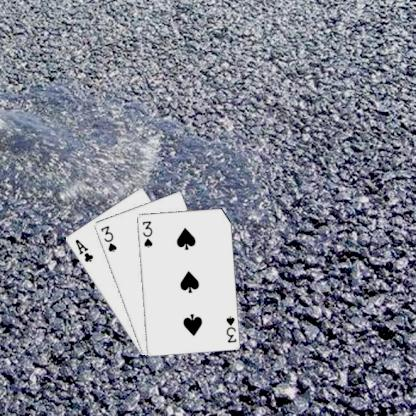3S: (98, 223, 118, 253), (140, 218, 154, 249), (223, 313, 237, 344)
AC: (73, 236, 94, 264)
